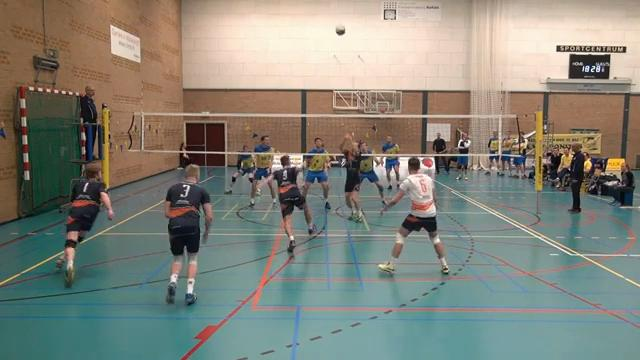Player: (378, 157, 448, 273), (56, 163, 113, 286), (164, 164, 212, 304), (271, 155, 316, 251), (302, 138, 330, 208), (250, 135, 276, 206), (360, 142, 384, 202), (225, 154, 253, 193), (385, 156, 399, 189)
Set: (337, 131, 368, 226)
ball: (336, 24, 347, 36)
